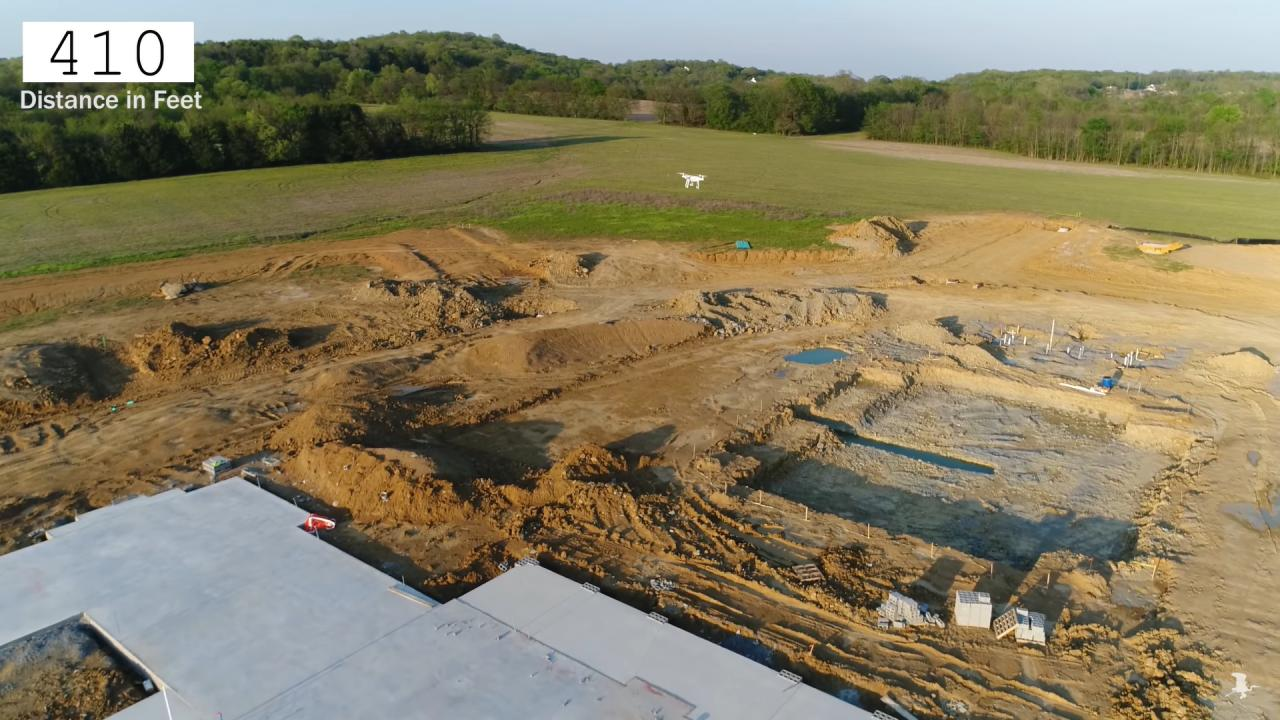Drone: (671, 165, 715, 196)
